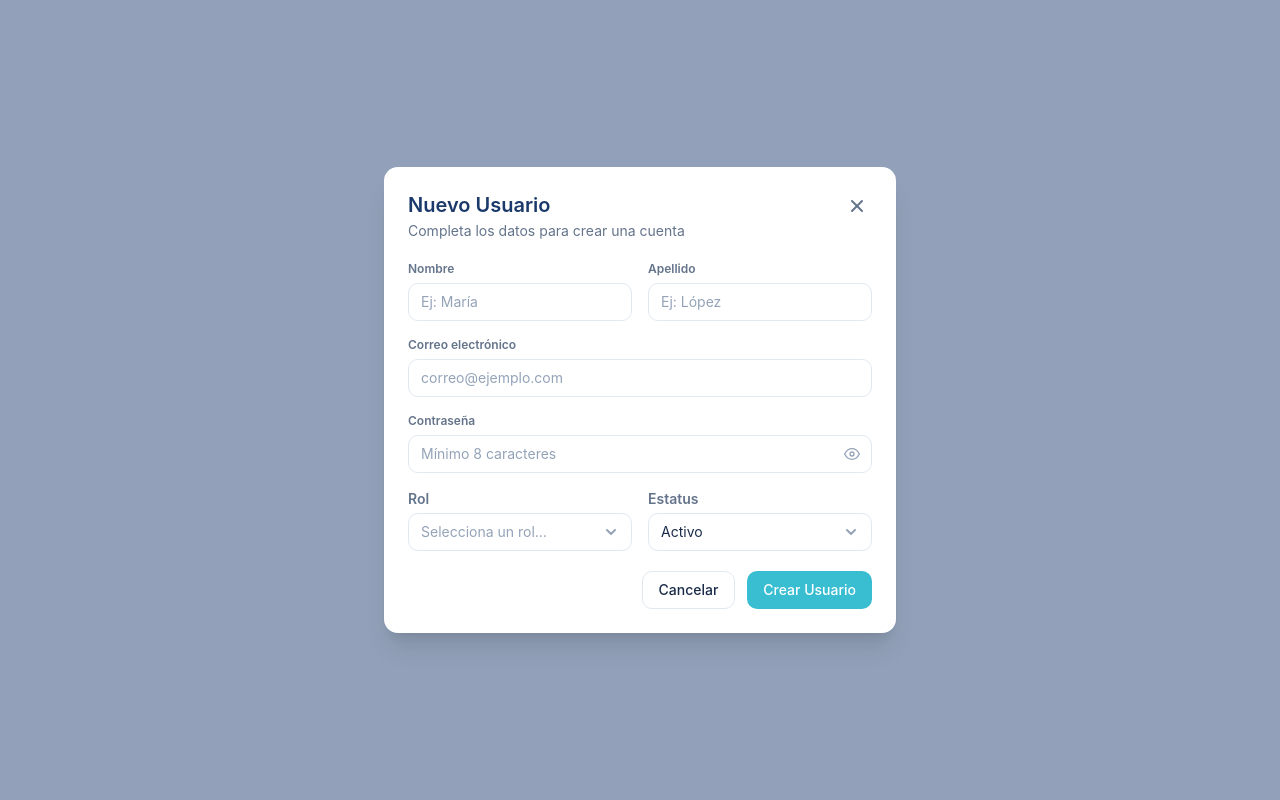
Test: CreateUserModal › muestra error de correo inválido
Type "correo-invalido" into the field labelled "Correo electrónico" at (640, 378), box [408, 359, 872, 397]
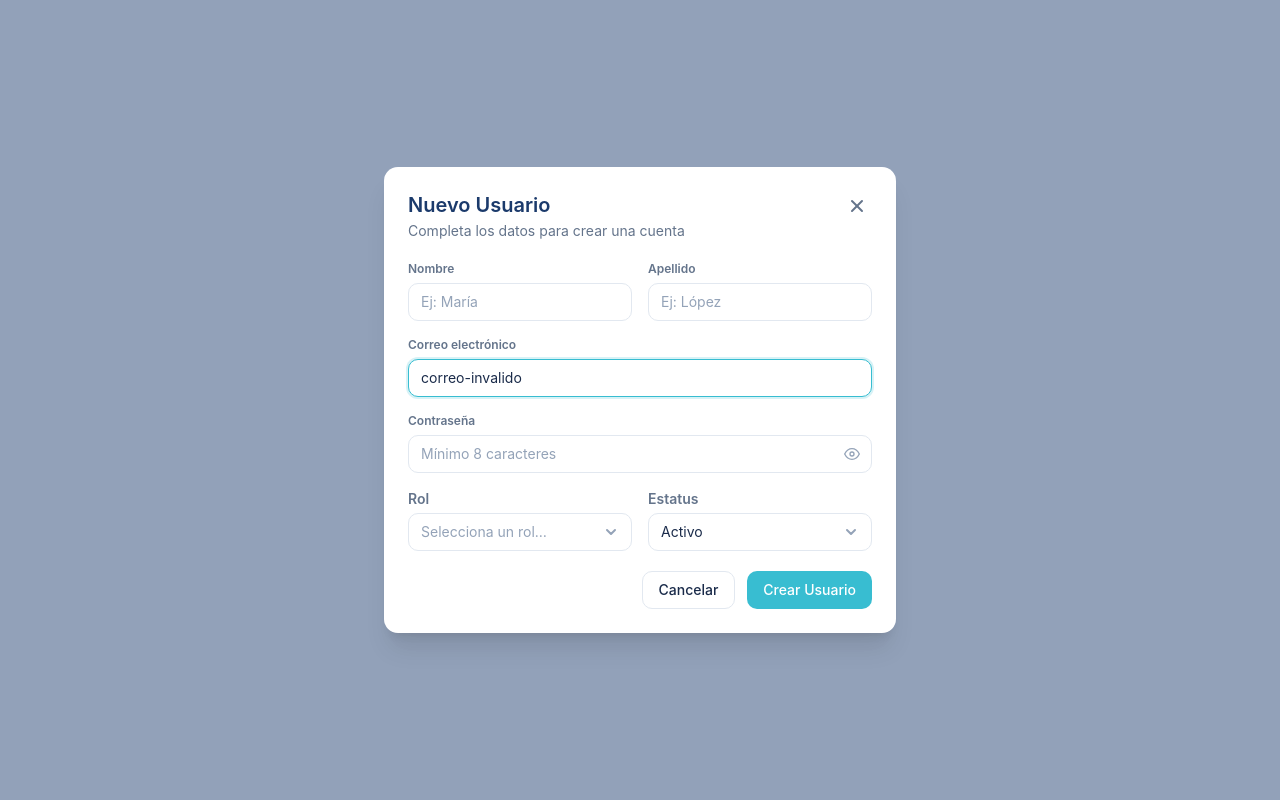
Click the button "Crear Usuario" at (810, 590), box [747, 571, 872, 609]
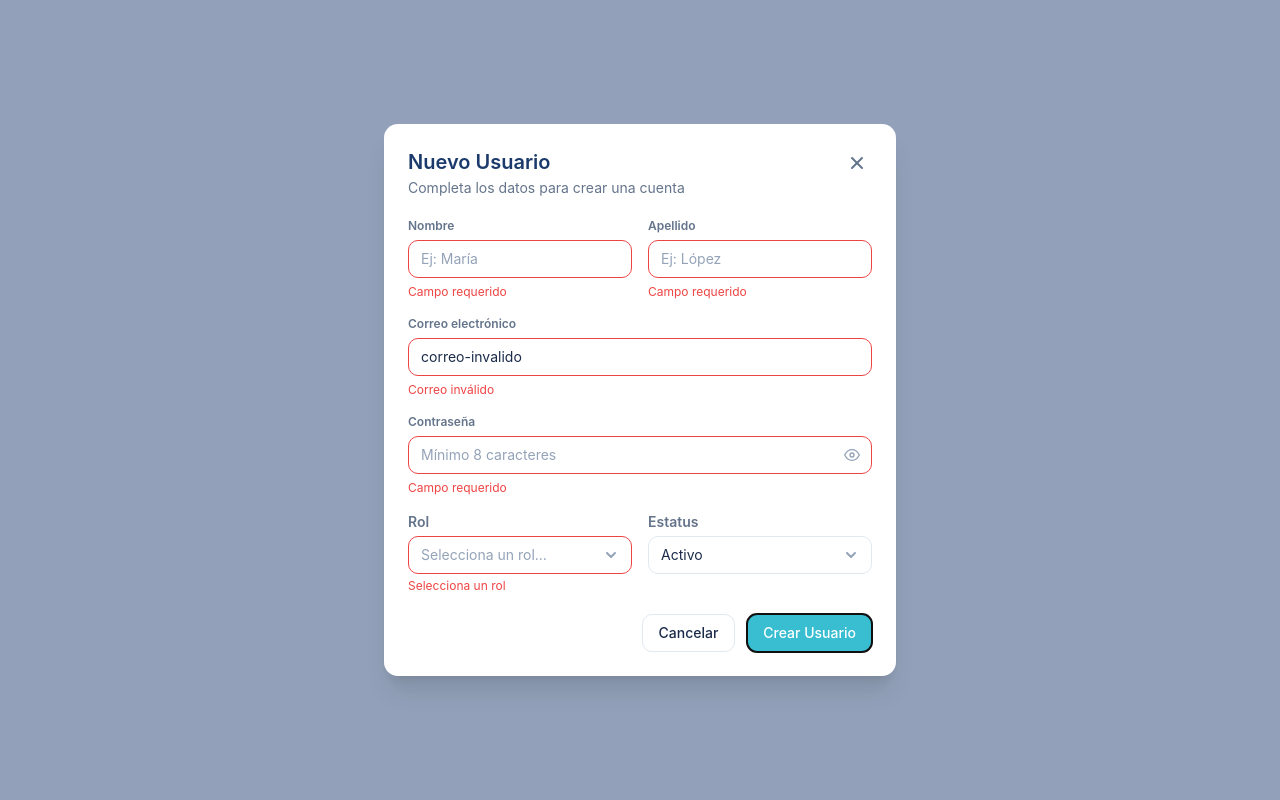
expect the text "Correo inválido" is shown: met, box [408, 382, 494, 397]
